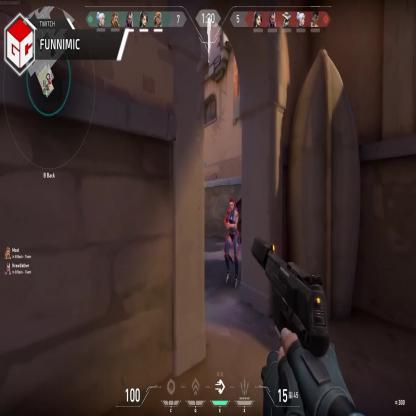enemy: (223, 195, 240, 290)
enemy_head: (228, 196, 235, 212)
